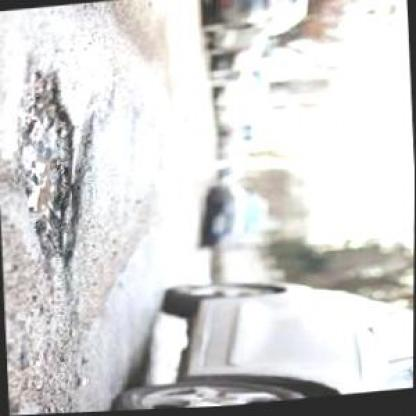pothole: (9, 64, 106, 269)
